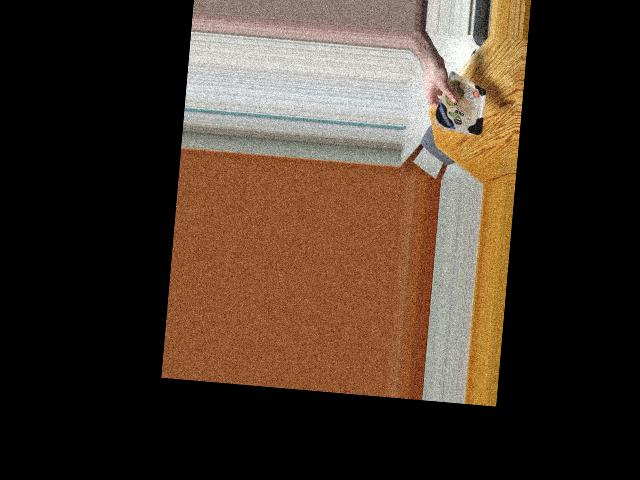cheese: (441, 75, 482, 136)
